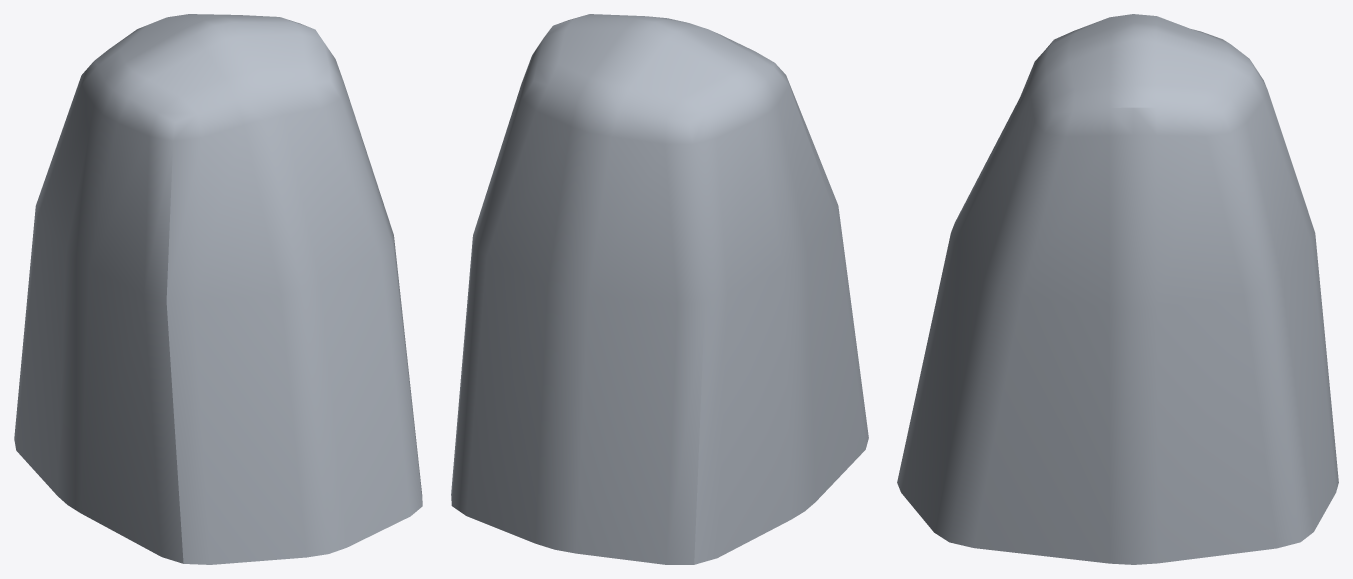
File: rock_1_geo.fbx
3 renders of one model, left to right at view 1: azimuth 30°, elevation 25°; view 2: azimuth 150°, elevation 25°; view 3: azimuth 270°, elevation 25°, orthographic. The views are drawn at different scales.
Parts seen in each view (by area): view 1: rock1; view 2: rock1; view 3: rock1.
Part boxes in pixels (x1,y1,x2,y2): rock1: [14, 14, 422, 564]; rock1: [451, 14, 868, 564]; rock1: [897, 14, 1338, 564].
Bounding box in the file's own units: 1.45 × 1.99 × 1.75.
